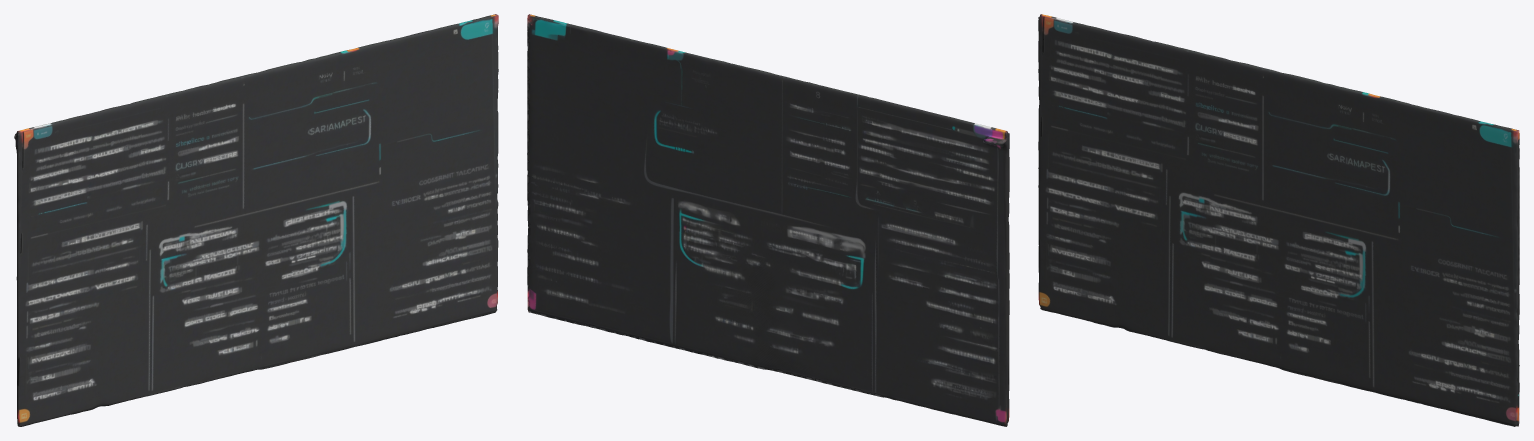
The model's file is prop_task_board_generated.glb.
The picture shows the model from 3 angles, left to right: view 1: azimuth 30°, elevation 25°; view 2: azimuth 150°, elevation 25°; view 3: azimuth 330°, elevation 25°; orthographic projection.
Size of the model in its own units: 2.01 by 1.19 by 0.0589.
Materials: 1 (1 with a texture image).
